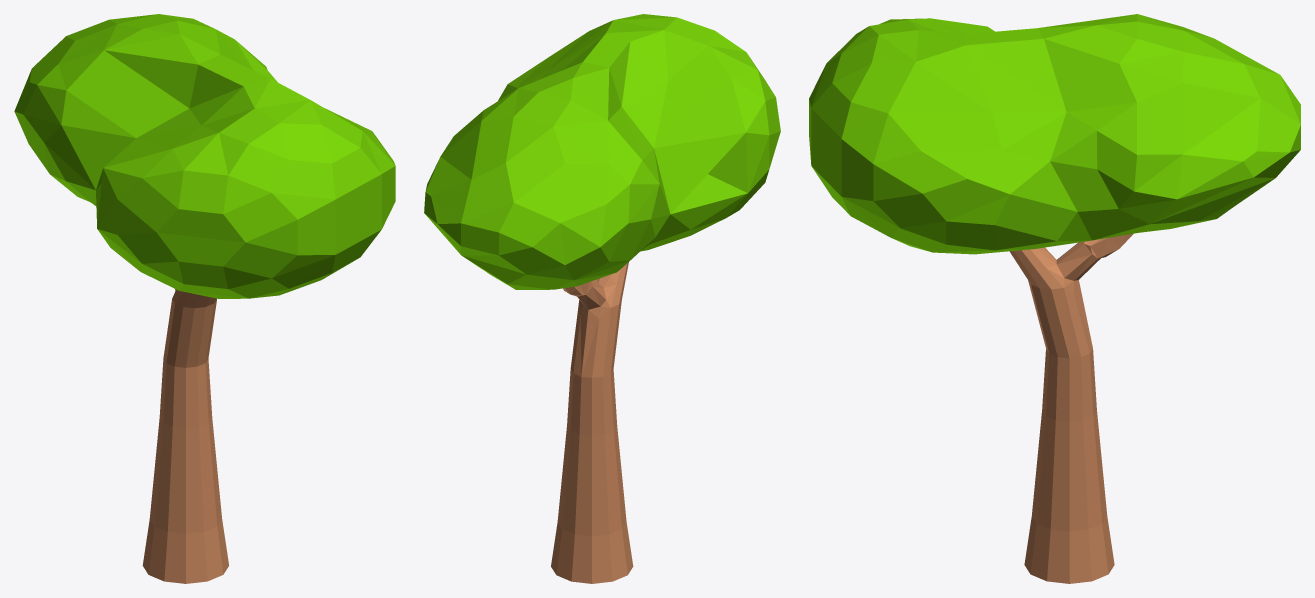
Rendered from _SM_Tree01.fbx.
3 renders of one model, left to right at view 1: azimuth 30°, elevation 25°; view 2: azimuth 150°, elevation 25°; view 3: azimuth 270°, elevation 25°, orthographic. The views are drawn at different scales.
Visible parts, largest first — view 1: Sphere.001, Cylinder.001; view 2: Sphere.001, Cylinder.001; view 3: Sphere.001, Cylinder.001.
Boxes of the visible parts, x1,y1,x2,y2 form: Sphere.001: [14, 14, 395, 298]; Cylinder.001: [142, 289, 228, 583]; Sphere.001: [424, 14, 780, 289]; Cylinder.001: [551, 262, 633, 583]; Sphere.001: [809, 14, 1300, 254]; Cylinder.001: [1009, 233, 1133, 583].
Bounding box in the file's own units: 52.09 × 97.58 × 80.1.
